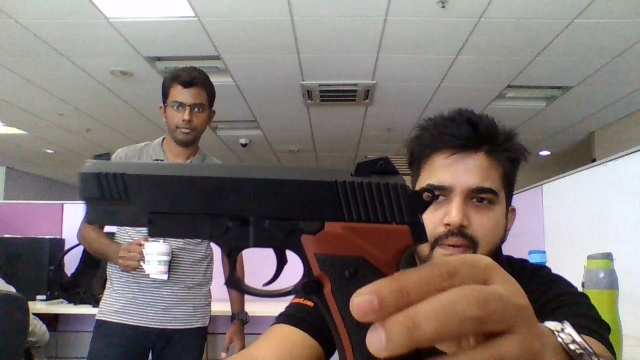gun: (80, 151, 436, 256)
